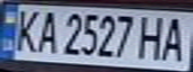2: (60, 9, 84, 56), (97, 11, 118, 58)
5: (78, 10, 100, 57)
7: (115, 11, 139, 60)
A: (157, 14, 193, 62), (33, 8, 60, 54)
H: (136, 12, 169, 61)
K: (9, 6, 42, 53)
